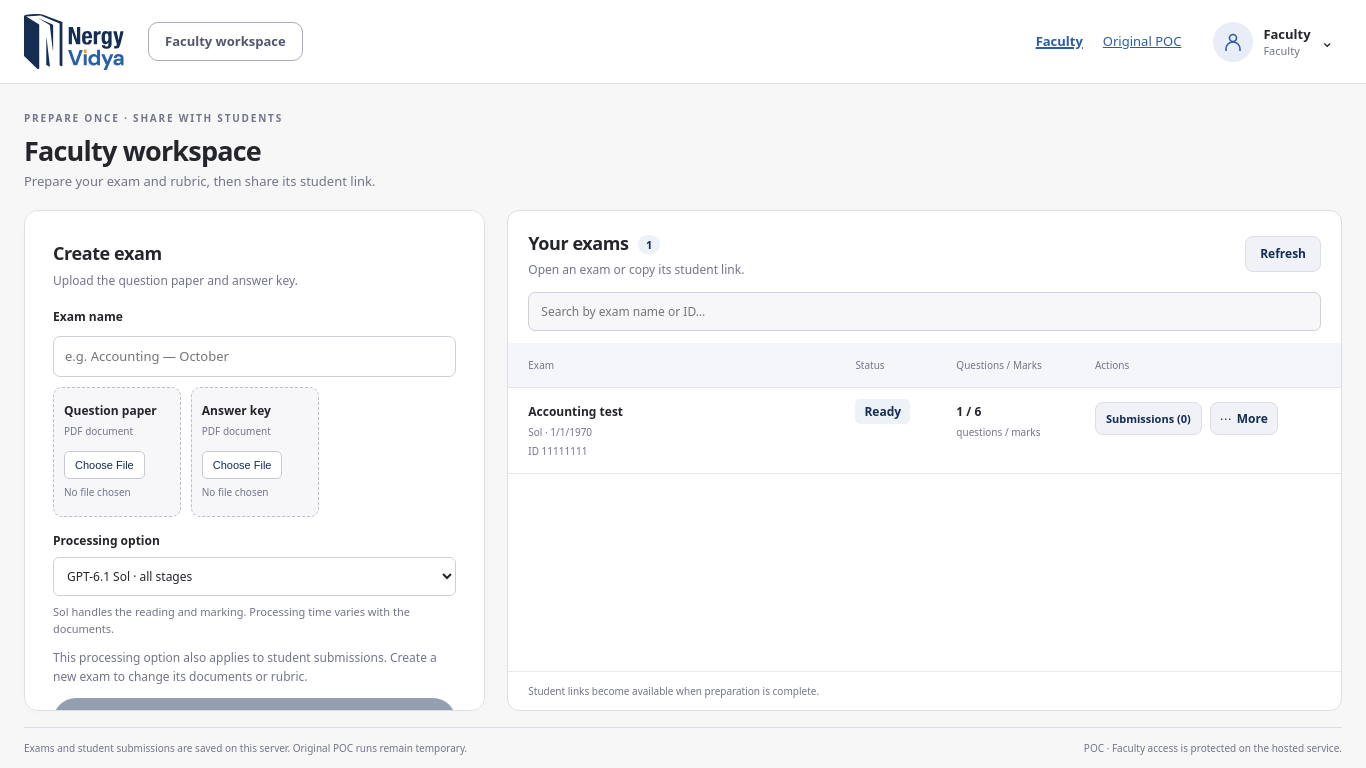
Test: Faculty page › keeps the deletion confirmation open when the server rejects deletion
expect the text "Ready" is shown: met, box [855, 399, 910, 424]
Click the button with aria-label "More actions for Accounting test": click(1244, 419) [1210, 402, 1278, 435]
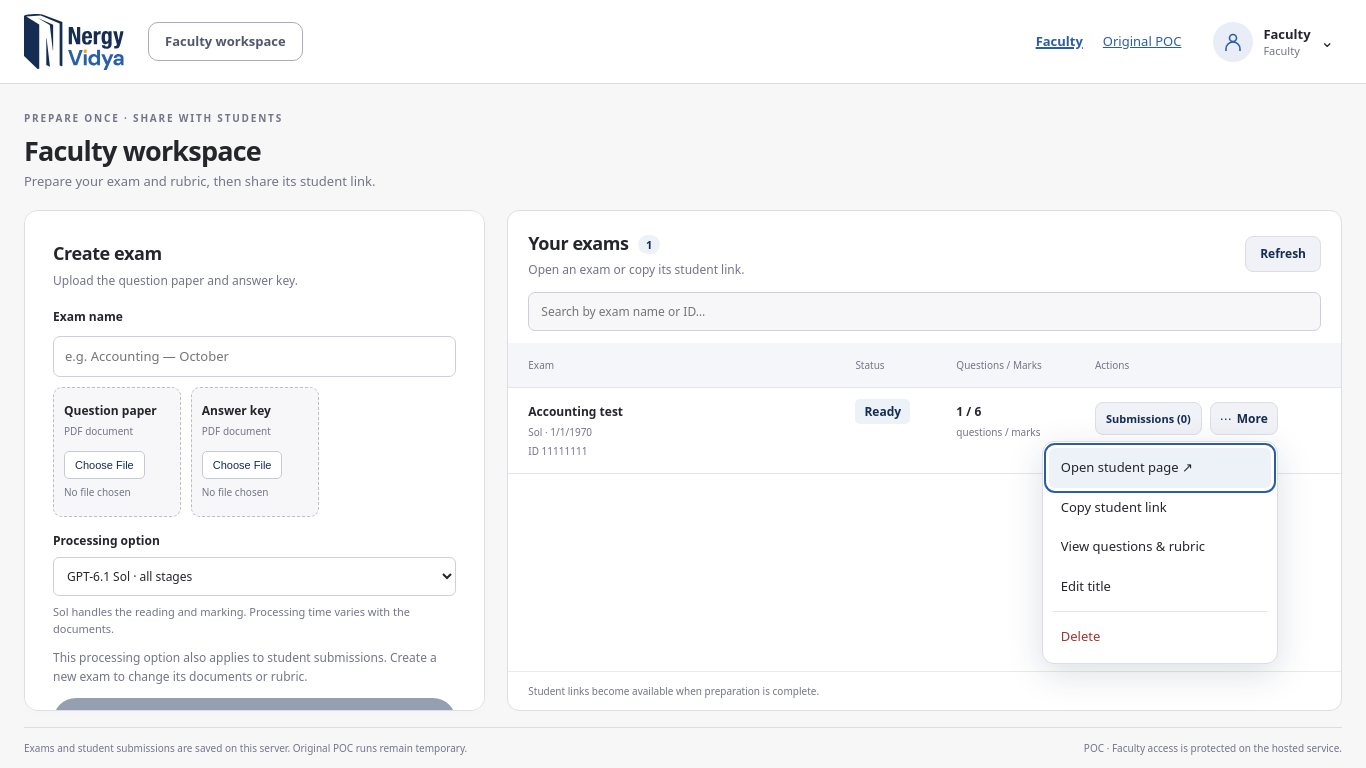
Click the menu item "Delete": click(1160, 637) [1049, 617, 1271, 657]
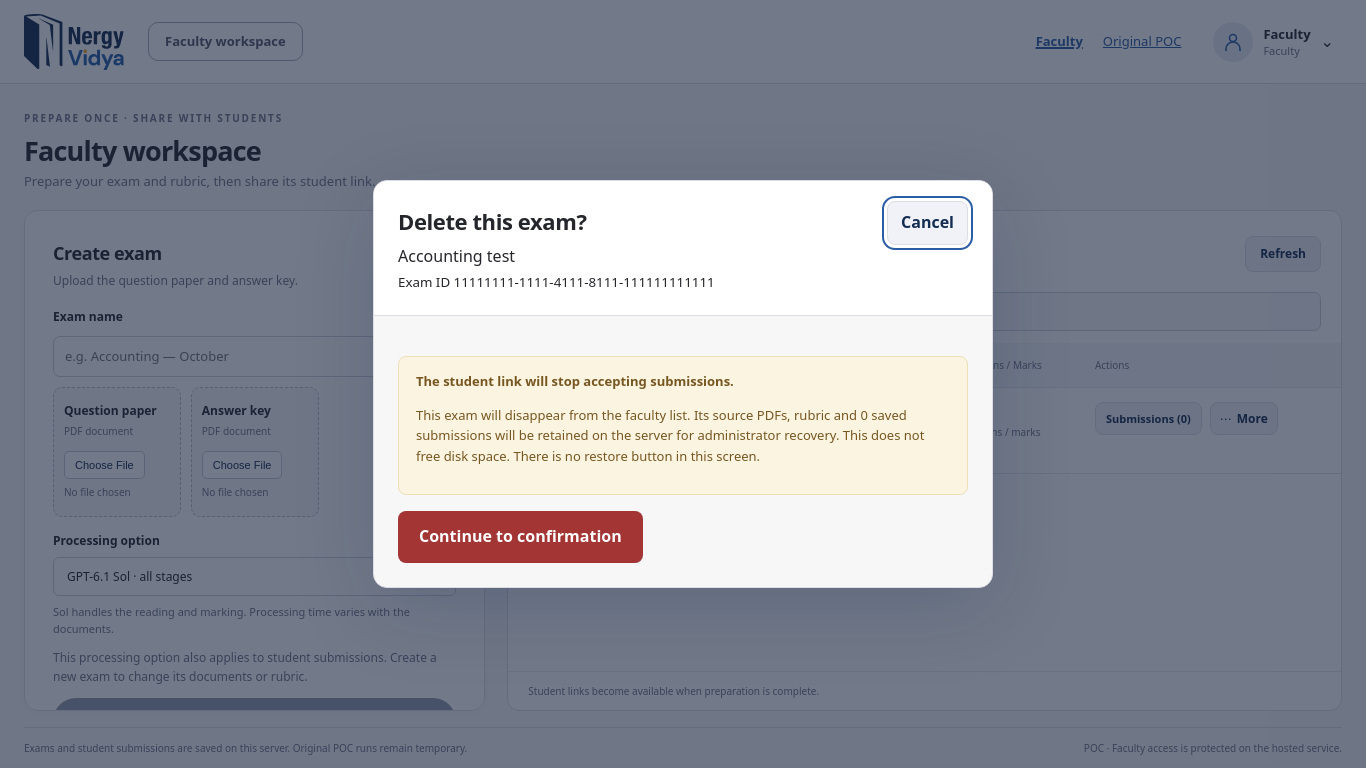
Click the button "Continue to confirmation": click(520, 537) [398, 511, 643, 563]
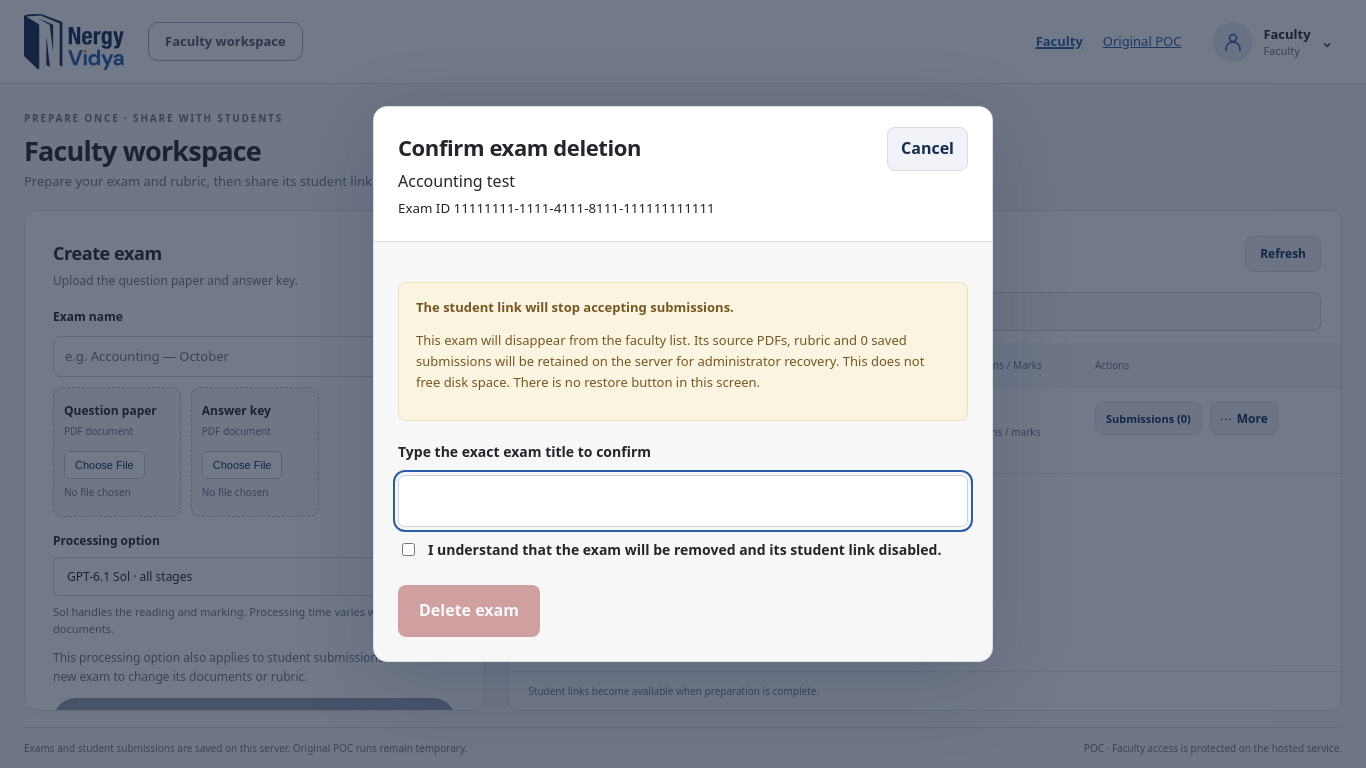
In the field labelled "Type the exact exam title to confirm": (683, 501) [398, 475, 968, 527], type "Accounting test"
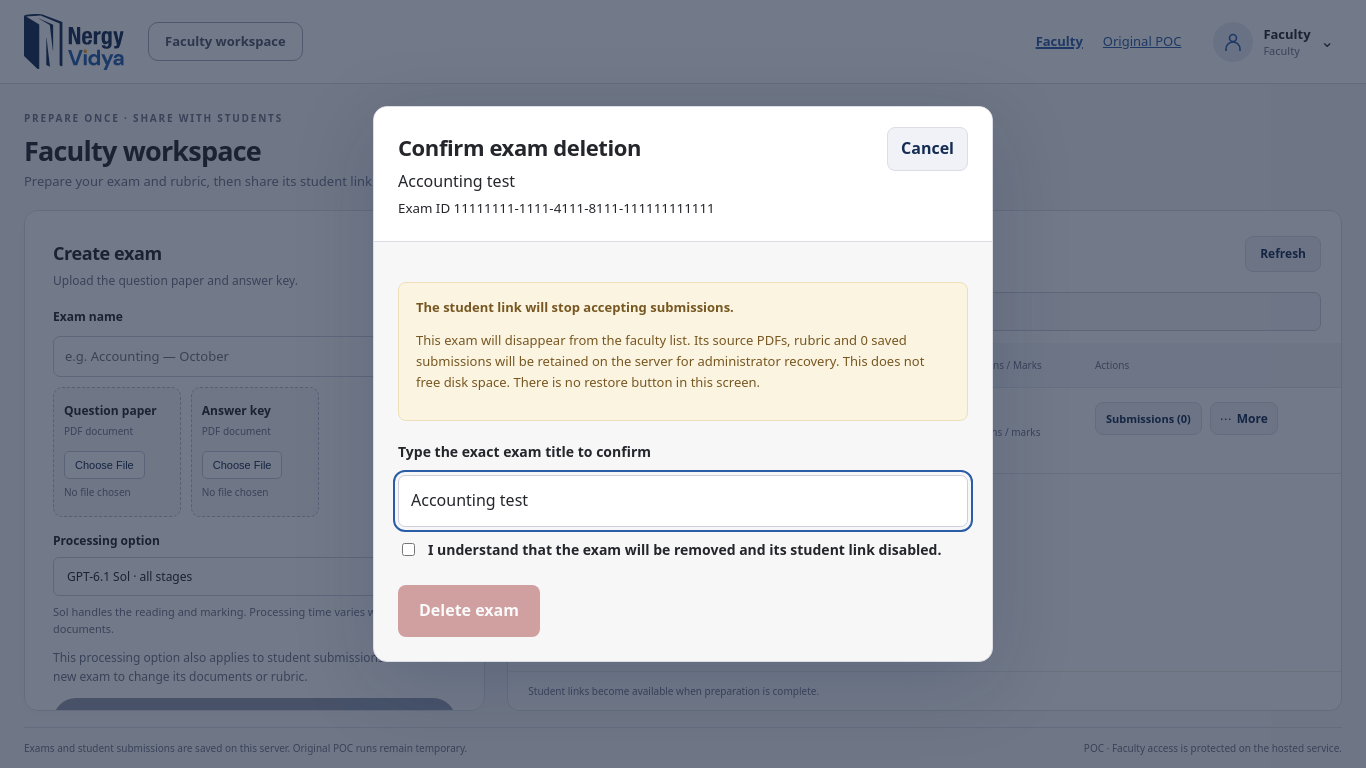
Click the checkbox: click(408, 549) [402, 543, 415, 556]
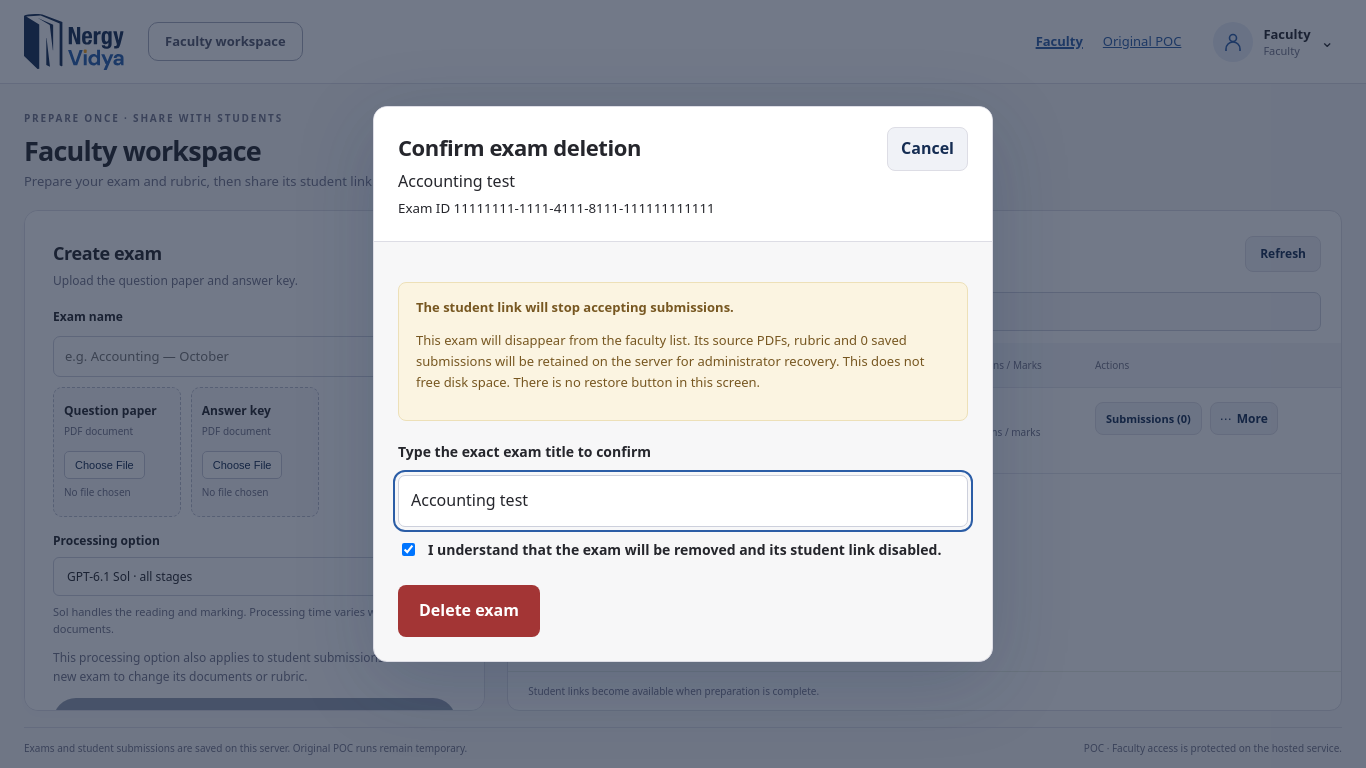
Click the button "Delete exam": click(469, 611) [398, 585, 540, 637]
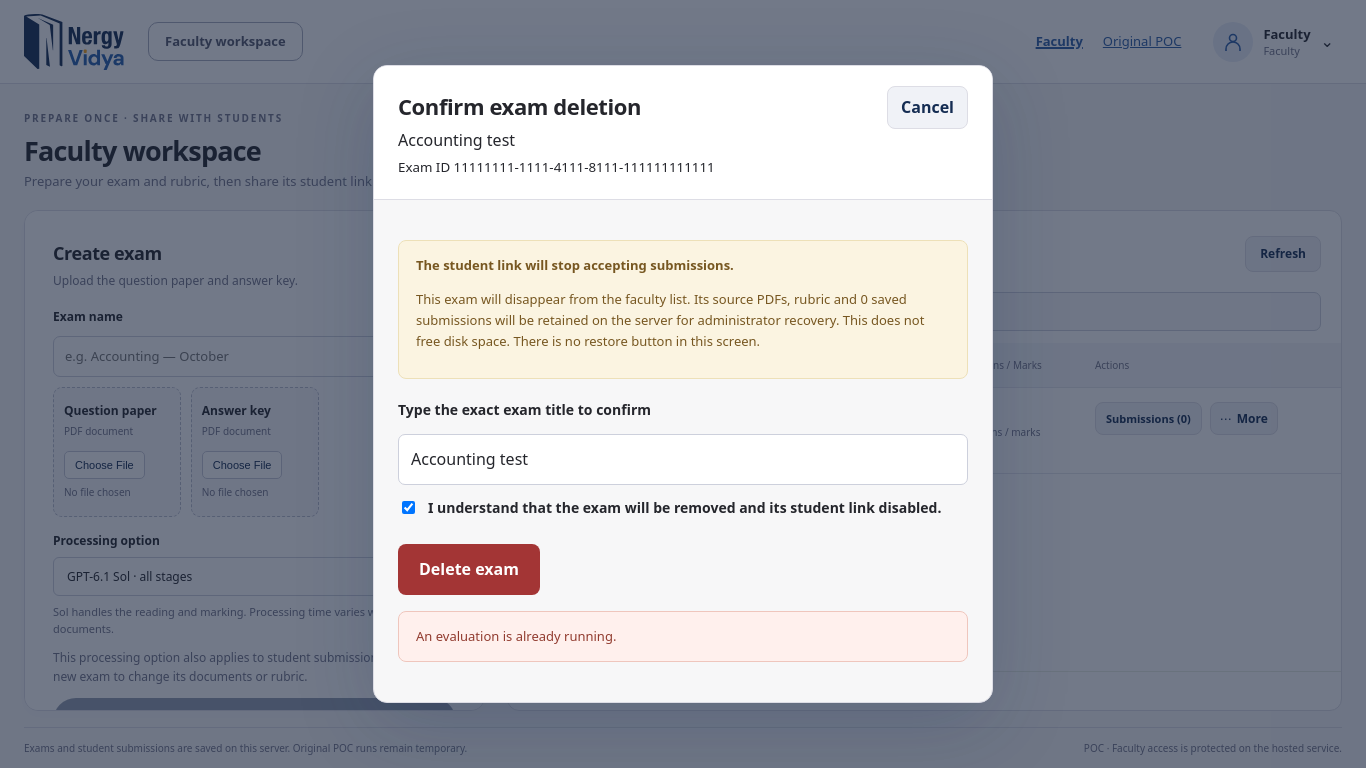
expect the dialog is shown: met, box [373, 65, 993, 703]
expect the text "An evaluation is already running." is shown: met, box [398, 611, 968, 662]
